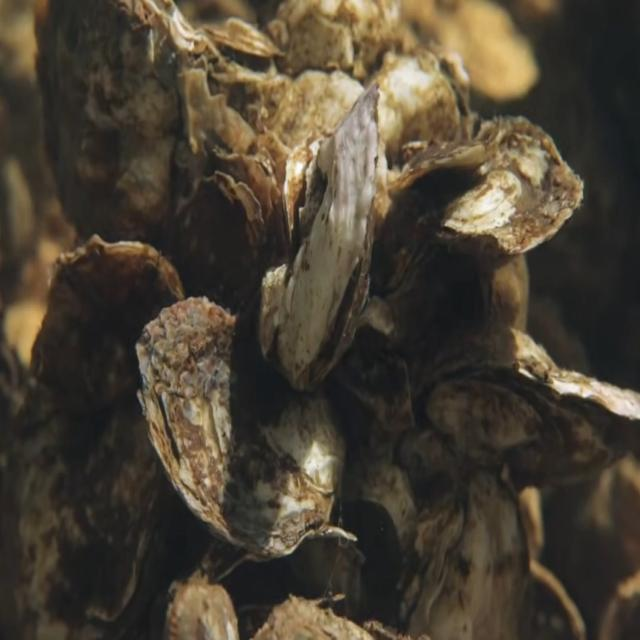Oyster-Closed: (13, 233, 185, 640), (409, 322, 640, 494), (257, 79, 381, 395), (377, 114, 586, 298), (393, 466, 535, 640)
Oyster-Indeterminate: (135, 294, 352, 561), (35, 0, 221, 268), (173, 170, 267, 324)
Oyster-Open: (211, 525, 357, 612)
